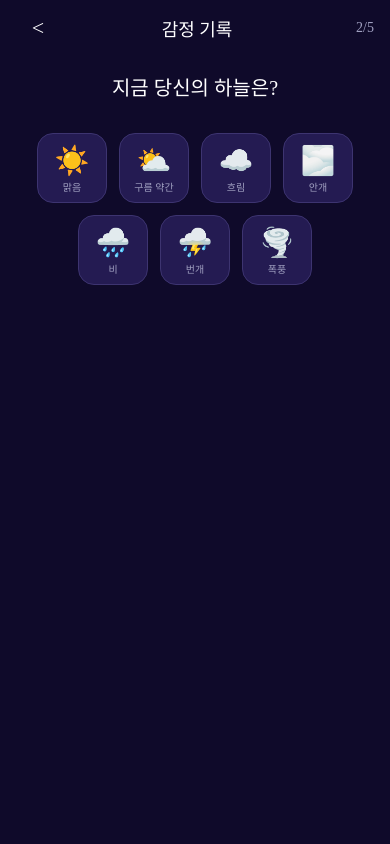
it: EmotionRecordScreen › shows intensity section after selecting a weather
expect the text "감정 강도" is not shown: met
Click the text "맑음".
click(72, 186)  # box [63,178,81,194]
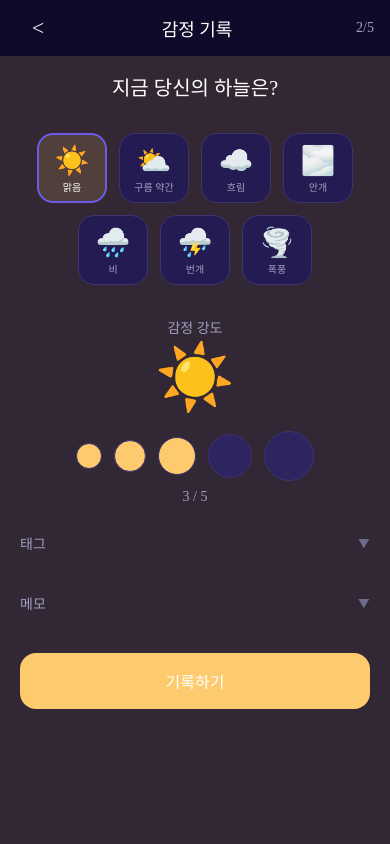
expect the text "감정 강도" is shown: met, box [168,317,222,337]
